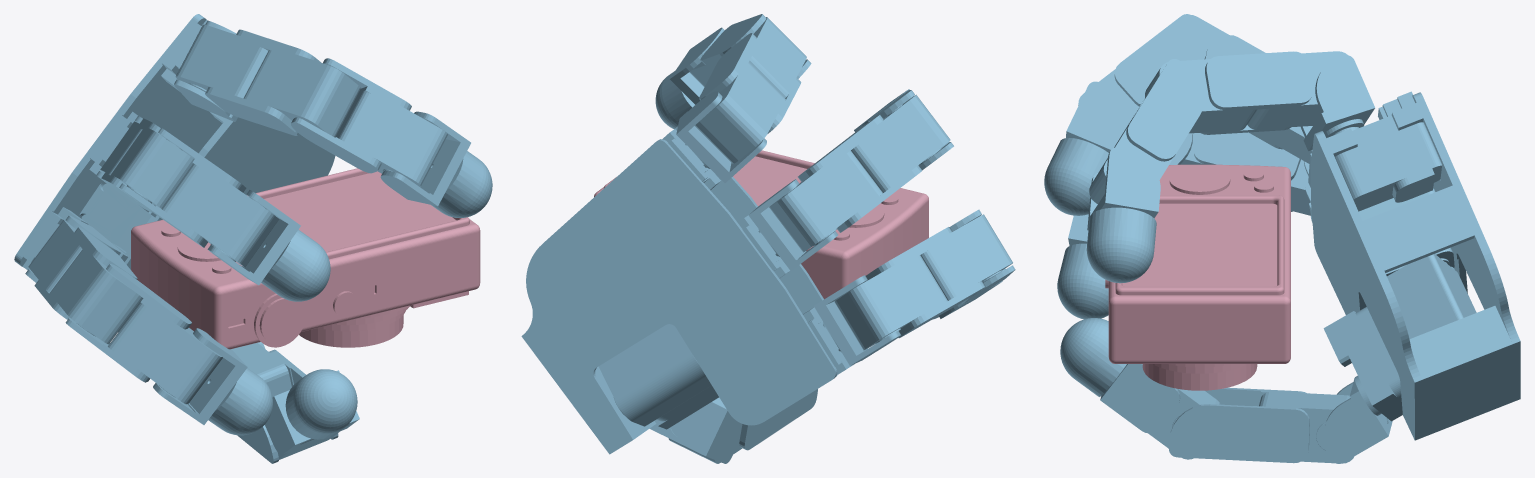
3 views of the same model, side by side, from view 1: azimuth 30°, elevation 25°; view 2: azimuth 150°, elevation 25°; view 3: azimuth 270°, elevation 25° (orthographic). The views are drawn at different scales.
Parts seen in each view (by area): view 1: world, camera.stl; view 2: world, camera.stl; view 3: world, camera.stl.
Boxes of the visible parts, x1,y1,x2,y2 form: world: (14,14,492,463); camera.stl: (131,168,480,349); world: (521,14,1015,463); camera.stl: (594,150,928,299); world: (1044,14,1520,463); camera.stl: (1105,164,1290,390).
Size of the model in its own units: 0.1678 by 0.1608 by 0.1692.
